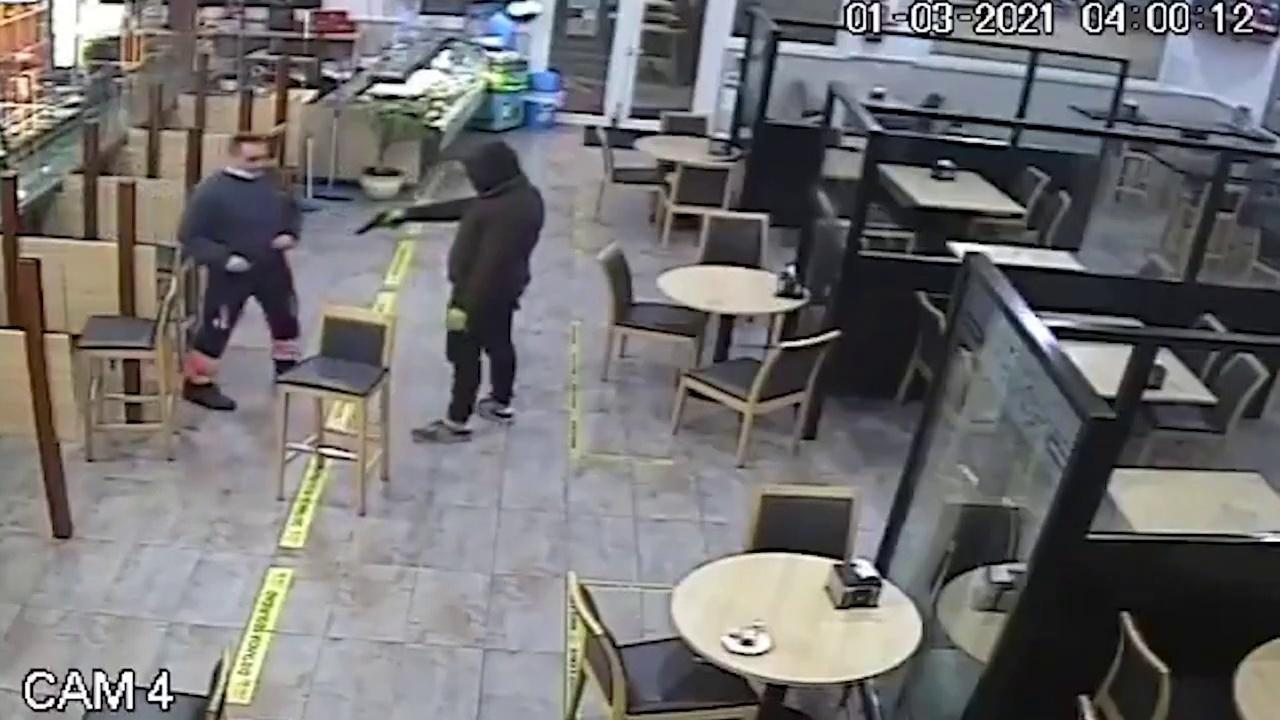Guns perspective: (344, 199, 419, 250)
